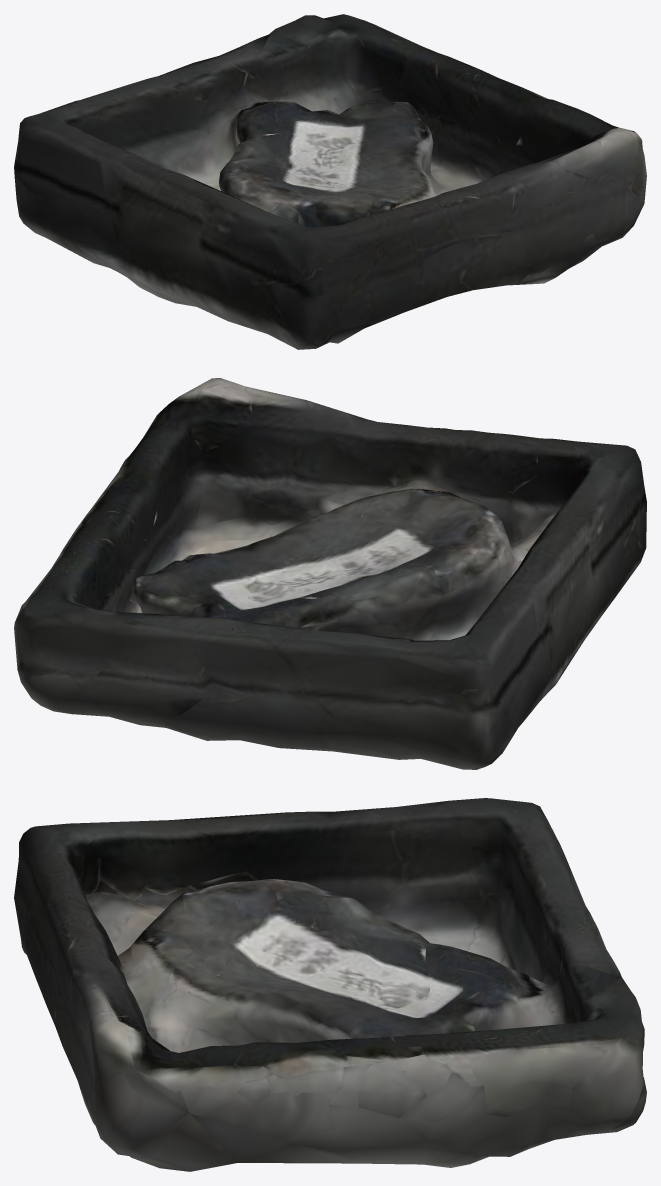
The model's file is hall.glb.
The picture shows the model from 3 angles, top to bottom: view 1: azimuth 30°, elevation 25°; view 2: azimuth 150°, elevation 25°; view 3: azimuth 270°, elevation 25°; orthographic projection. The views are drawn at different scales.
Bounding box in the file's own units: 0.7578 × 0.2883 × 0.7519.
1 material, 1 textured.
